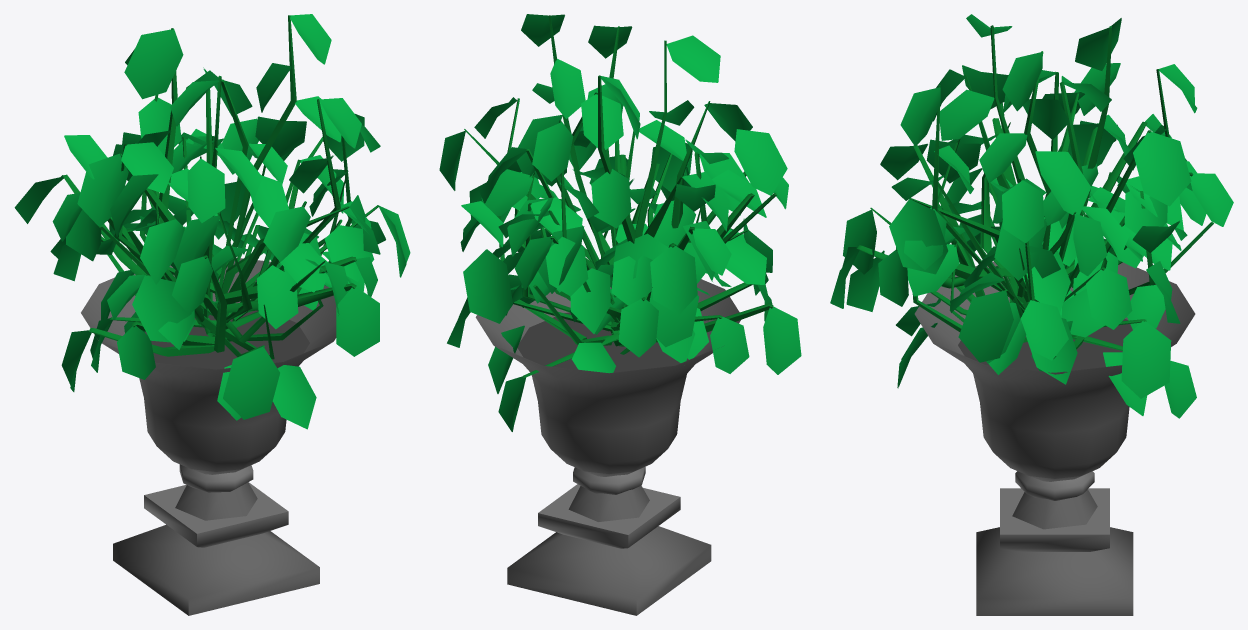
The model's file is flower_028.glb.
The picture shows the model from 3 angles, left to right: view 1: azimuth 30°, elevation 25°; view 2: azimuth 150°, elevation 25°; view 3: azimuth 270°, elevation 25°; orthographic projection. The views are drawn at different scales.
Parts seen in each view (by area): view 1: flower_028; view 2: flower_028; view 3: flower_028.
Part boxes in pixels (x1,y1,x2,y2): flower_028: (14,14,410,615); flower_028: (439,14,801,615); flower_028: (830,14,1233,615).
Size of the model in its own units: 0.6595 by 1.02 by 0.6587.
Materials: 1 (1 with a texture image).
